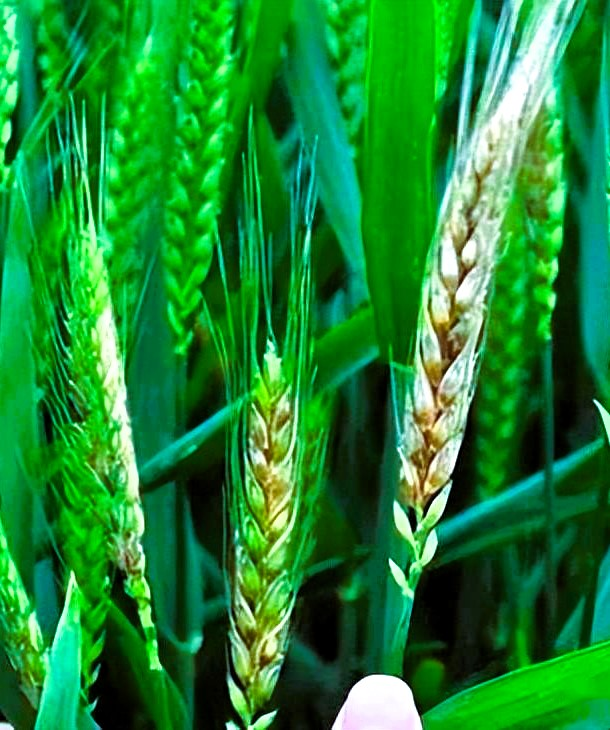Wheat scab: (391, 70, 545, 549)
